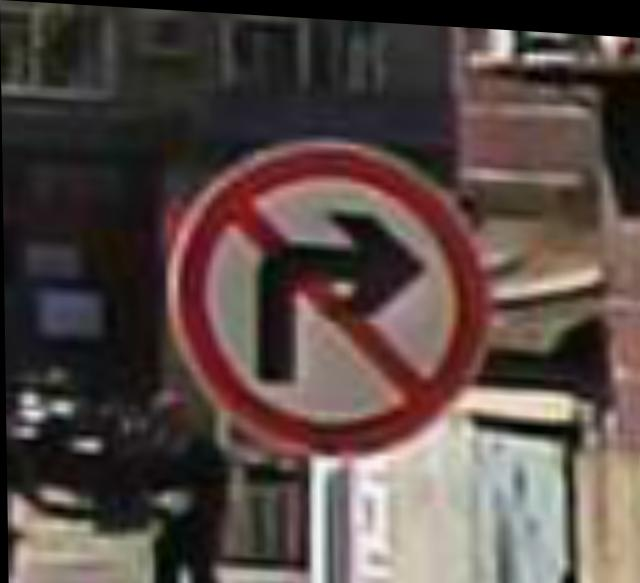not_turn_right: (143, 129, 495, 436)
